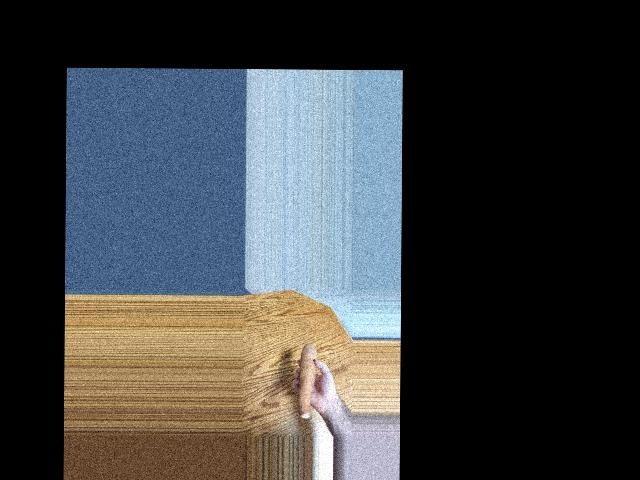sweet_potato: (293, 343, 313, 412)
